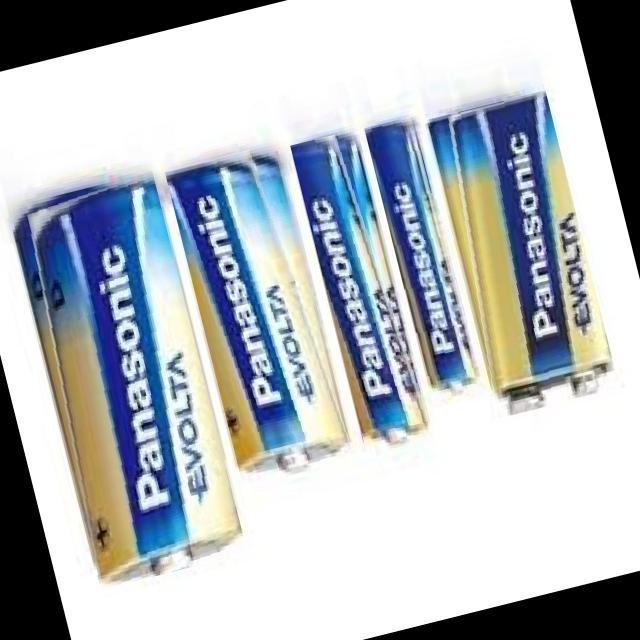Hazard: (2, 167, 246, 588), (162, 141, 354, 486), (421, 88, 618, 416), (288, 128, 434, 456), (362, 114, 483, 400)
